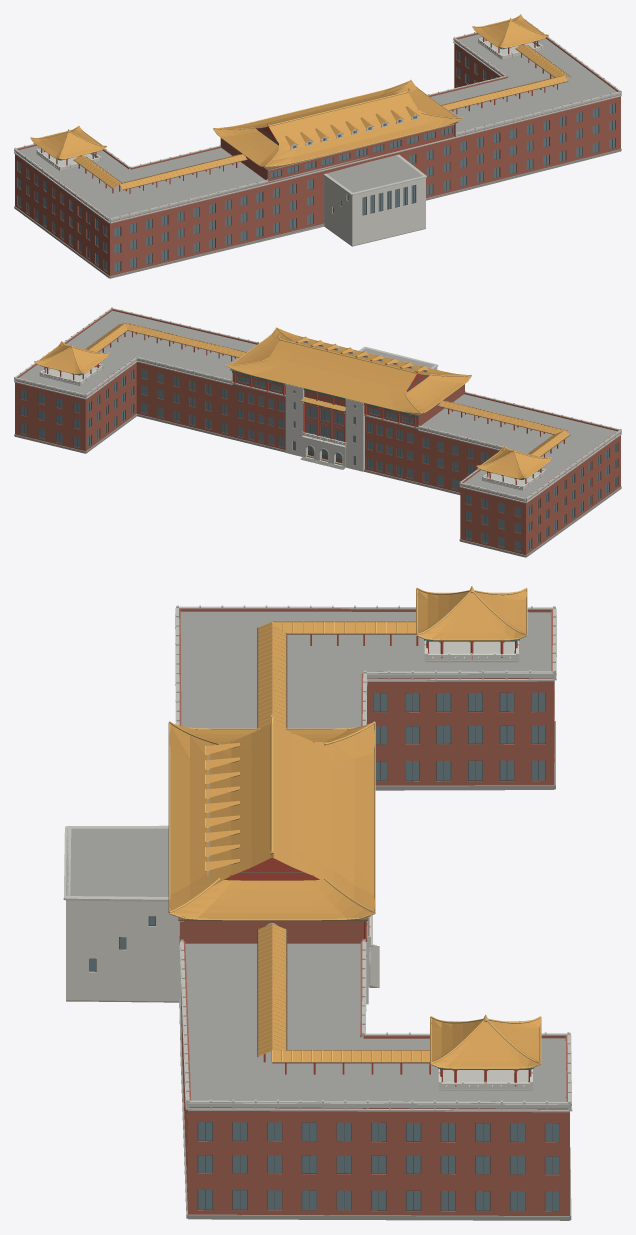
The model's file is xuhui-medical-college-east-building-one-lod.glb.
3 views of the same model, one above another, from view 1: azimuth 30°, elevation 25°; view 2: azimuth 150°, elevation 25°; view 3: azimuth 270°, elevation 25° (orthographic). The views are drawn at different scales.
Parts seen in each view (by area): view 1: 国立上海医学院东一号楼（草坪立面、歇山顶与两翼方亭）; view 2: 国立上海医学院东一号楼（草坪立面、歇山顶与两翼方亭）; view 3: 国立上海医学院东一号楼（草坪立面、歇山顶与两翼方亭）.
Boxes of the visible parts, <box> form: 国立上海医学院东一号楼（草坪立面、歇山顶与两翼方亭）: <box>14,14,621,278</box>; 国立上海医学院东一号楼（草坪立面、歇山顶与两翼方亭）: <box>14,307,621,557</box>; 国立上海医学院东一号楼（草坪立面、歇山顶与两翼方亭）: <box>63,586,572,1220</box>.
Bounding box in the file's own units: 119 × 20.67 × 51.47.
